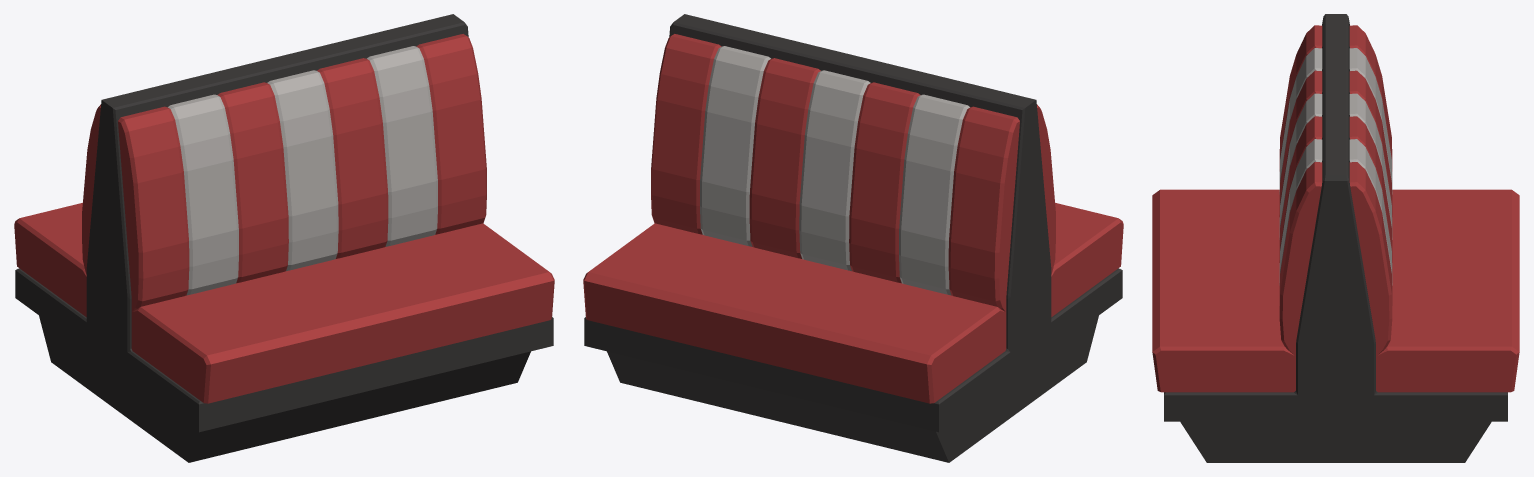
File: SM_Props_Interior_Shop_Restaurant_Booth_Seat_01_02.fbx
3 renders of one model, left to right at view 1: azimuth 30°, elevation 25°; view 2: azimuth 150°, elevation 25°; view 3: azimuth 270°, elevation 25°, orthographic. The views are drawn at different scales.
Visible parts, largest first — view 1: SM_Props_Interior_Shop_Restaurant_Booth_Seat_01_02; view 2: SM_Props_Interior_Shop_Restaurant_Booth_Seat_01_02; view 3: SM_Props_Interior_Shop_Restaurant_Booth_Seat_01_02.
Part boxes in pixels (x1,y1,x2,y2): SM_Props_Interior_Shop_Restaurant_Booth_Seat_01_02: (14,14,554,462); SM_Props_Interior_Shop_Restaurant_Booth_Seat_01_02: (583,14,1123,462); SM_Props_Interior_Shop_Restaurant_Booth_Seat_01_02: (1152,14,1519,462).
Size of the model in its own units: 125 by 105 by 119.
